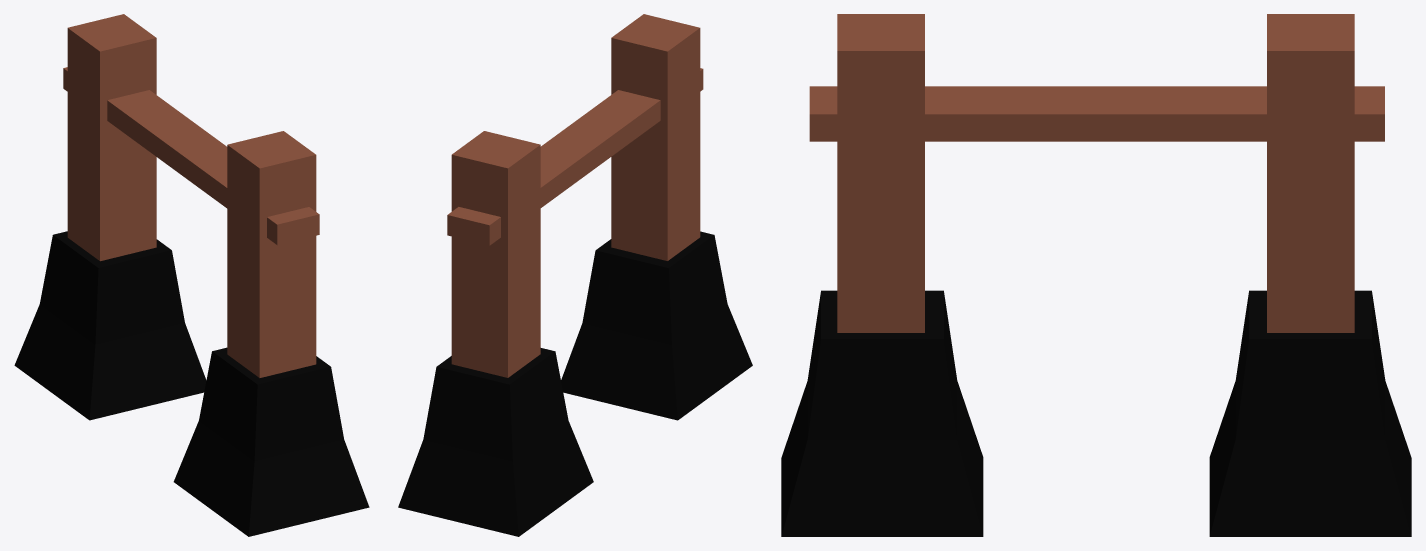
Rendered from ladder_btm.fbx.
3 renders of one model, left to right at view 1: azimuth 30°, elevation 25°; view 2: azimuth 150°, elevation 25°; view 3: azimuth 270°, elevation 25°, orthographic. The views are drawn at different scales.
Parts seen in each view (by area): view 1: Ladder_Btm; view 2: Ladder_Btm; view 3: Ladder_Btm.
Part boxes in pixels (x1,y1,x2,y2): Ladder_Btm: [14, 14, 369, 536]; Ladder_Btm: [398, 14, 752, 536]; Ladder_Btm: [781, 14, 1411, 536].
Size of the model in its own units: 71.86 by 196 by 241.
